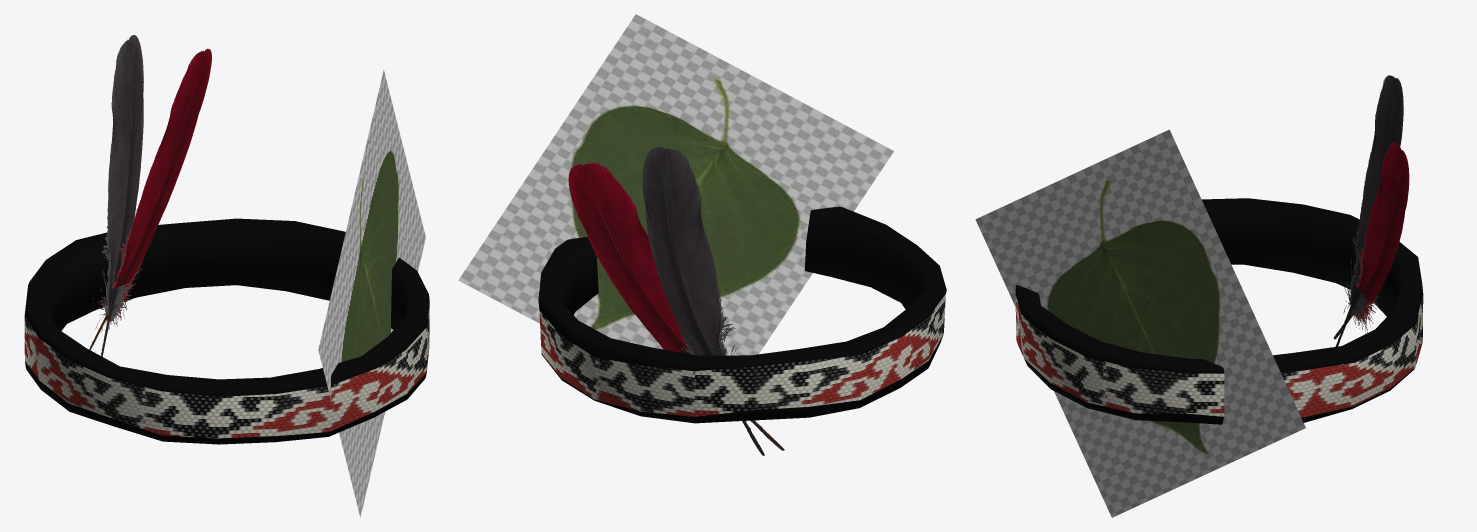
The model's file is hairband.fbx.
3 renders of one model, left to right at view 1: azimuth 30°, elevation 25°; view 2: azimuth 150°, elevation 25°; view 3: azimuth 270°, elevation 25°, orthographic.
Visible parts, largest first — view 1: Cylinder.001, Plane.001, Plane.002, Plane.003; view 2: Plane.001, Cylinder.001, Plane.002, Plane.003; view 3: Plane.001, Cylinder.001, Plane.003, Plane.002.
Part boxes in pixels (x1=…): Cylinder.001: x1=24, y1=218, x2=429, y2=444; Plane.001: x1=318, y1=70, x2=425, y2=517; Plane.002: x1=93, y1=35, x2=143, y2=356; Plane.003: x1=89, y1=48, x2=211, y2=350; Plane.001: x1=458, y1=14, x2=893, y2=355; Cylinder.001: x1=538, y1=206, x2=946, y2=423; Plane.002: x1=642, y1=146, x2=764, y2=455; Plane.003: x1=568, y1=163, x2=784, y2=450; Plane.001: x1=975, y1=129, x2=1305, y2=517; Cylinder.001: x1=1015, y1=198, x2=1423, y2=424; Plane.003: x1=1333, y1=142, x2=1409, y2=339; Plane.002: x1=1335, y1=75, x2=1403, y2=346.
Size of the model in its own units: 243 by 236 by 240.
